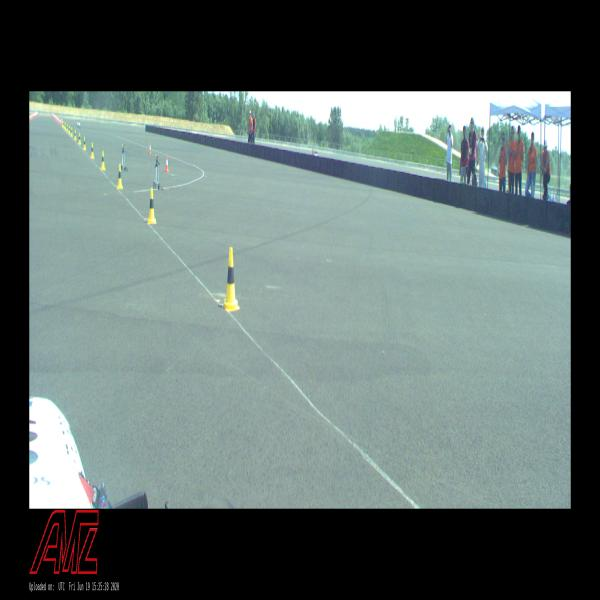large_orange_cone: (61, 116, 63, 125)
orange_cone: (164, 156, 169, 172), (149, 142, 151, 153)
yellow_cone: (222, 248, 240, 311), (148, 188, 157, 224), (118, 164, 123, 188), (101, 151, 105, 169), (91, 143, 94, 158), (78, 133, 82, 144), (83, 137, 86, 150), (74, 130, 77, 140), (70, 127, 73, 136), (68, 126, 70, 134), (63, 121, 65, 127), (67, 125, 68, 131), (65, 124, 66, 130)
